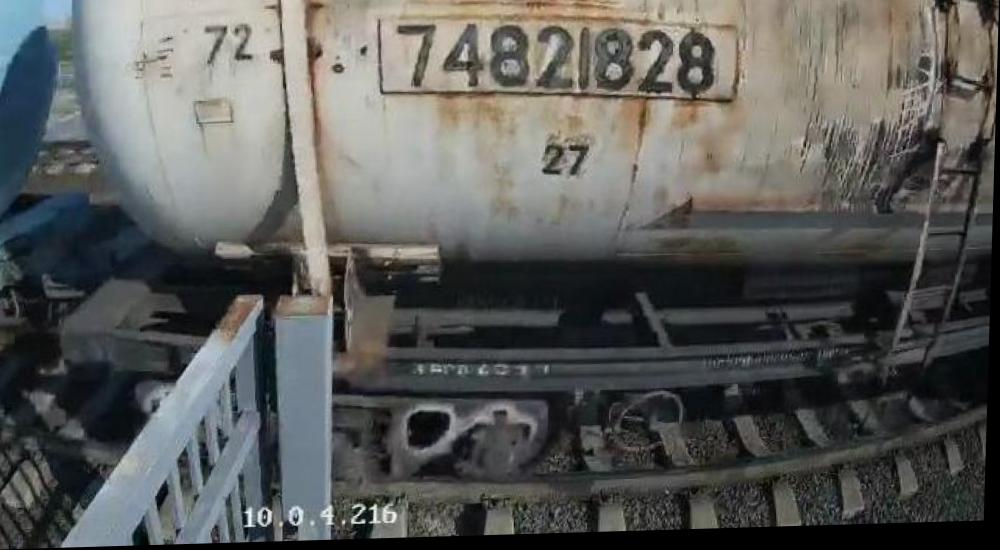Wagon-number: (386, 15, 723, 110)
